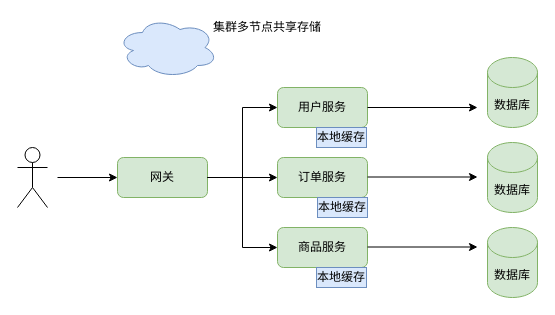
Image size: 555x315. Some labels were removed from this diagram. Here are the shapes that lost their labels. From the top down, the centre of each, then its label:
point 167,47: 分布式缓存
point 32,177: Actor
